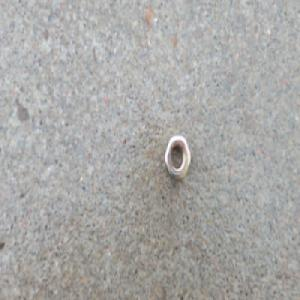Nut: (163, 133, 191, 181)
